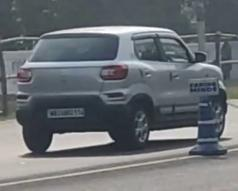Car: (12, 25, 227, 146)
